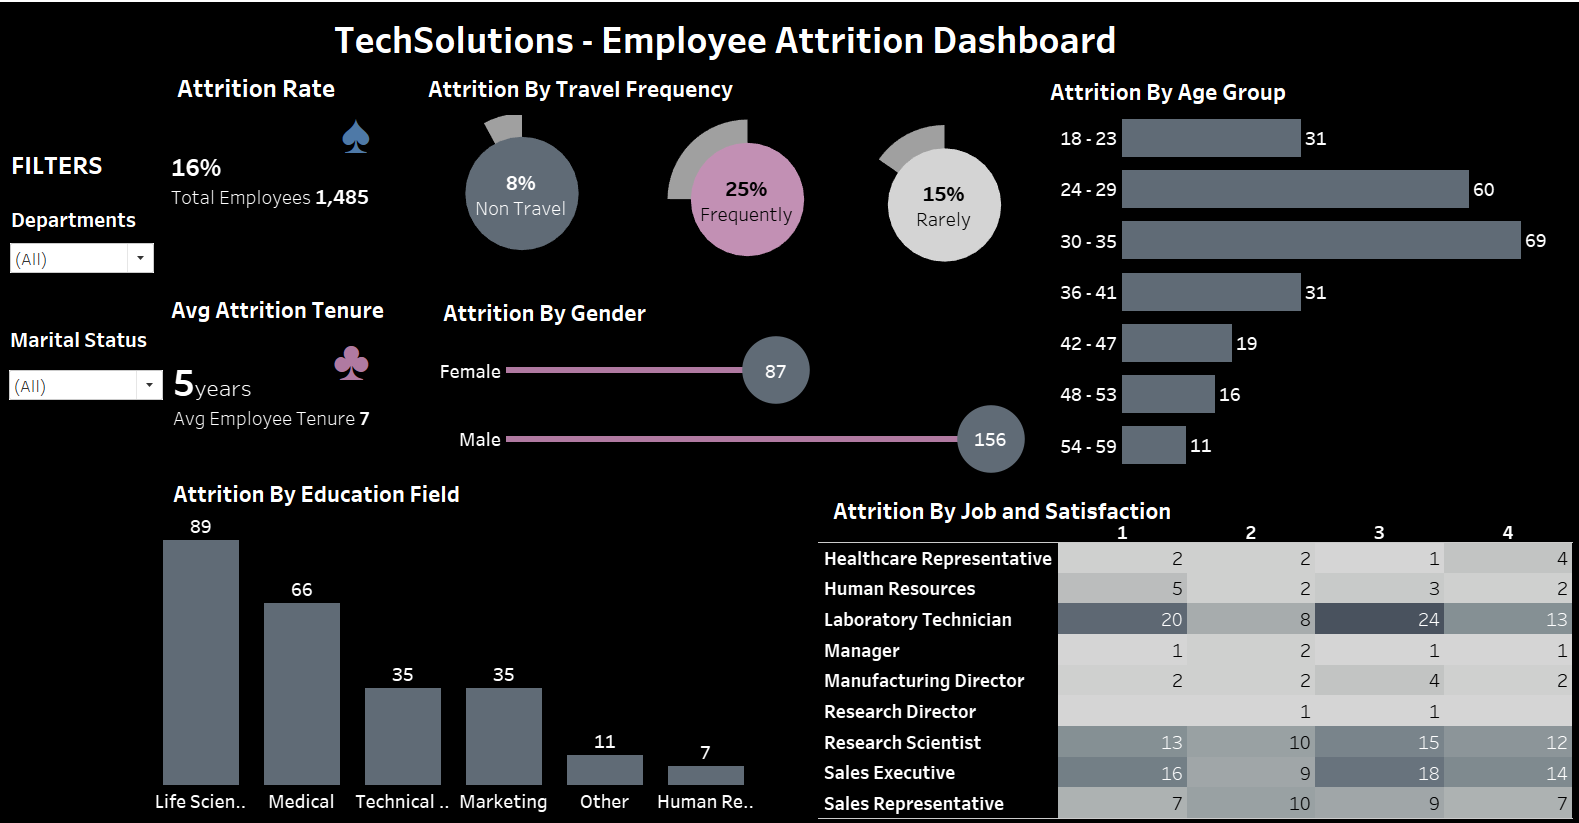

The dashboard page shown, as its layout file describes it:
{"tool":"tableau","page":{"name":"Attrition Dashboard","canvas":[1600,900],"ordinal":0},"visuals":[{"type":"title","box":[8,8,1584,58]},{"type":"text","box":[342,79,852,47]},{"type":"text","box":[185,136,179,30]},{"type":"text","box":[436,137,324,30]},{"type":"text","box":[1058,140,253,30]},{"type":"text","box":[349,159,47,71]},{"type":"worksheet","title":"Attrition by Travel Frequently","mark":"Pie","rows":["Calculation_258394075902230532","Calculation_258394075902283782"],"box":[672,170,175,187]},{"type":"worksheet","title":"Attrition by Age Group","mark":"Automatic","rows":["Age (bin)"],"cols":["Calculation_258394075888996352"],"box":[1054,176,531,359]},{"type":"worksheet","title":"Attrition by Non-Travel","mark":"Pie","rows":["Calculation_258394075902230532","Calculation_258394075902283782"],"box":[431,179,206,157]},{"type":"worksheet","title":"Attrition by Travel Rarely","mark":"Pie","rows":["Calculation_258394075902230532","Calculation_258394075902283782"],"box":[876,183,161,172]},{"type":"text","box":[19,213,128,30]},{"type":"worksheet","title":"Attrition rate","mark":"Automatic","box":[179,214,238,84]},{"type":"text","box":[19,268,133,30]},{"type":"filter","title":"Attrition rate","param":"[federated.0qzyapc01fa3ay15d49yk1dq9jj1].[none:Department:nk]","box":[19,304,150,48]},{"type":"text","box":[179,358,230,30]},{"type":"text","box":[451,361,218,30]},{"type":"text","box":[341,386,47,71]},{"type":"text","box":[18,388,155,30]},{"type":"worksheet","title":"Attrition by Gender","mark":"Automatic","rows":["Gender"],"cols":["Calculation_258394075888996352","Calculation_258394075888996352"],"box":[438,400,624,137]},{"type":"worksheet","title":"Avg Attrition Tenure","mark":"Automatic","box":[181,421,243,95]},{"type":"filter","title":"Attrition rate","param":"[federated.0qzyapc01fa3ay15d49yk1dq9jj1].[none:MaritalStatus:nk]","box":[18,431,160,53]},{"type":"text","box":[181,542,305,30]},{"type":"text","box":[841,559,427,30]},{"type":"worksheet","title":"Attrition by Education Field","mark":"Automatic","rows":["Calculation_258394075888996352"],"cols":["EducationField"],"box":[162,565,606,324]},{"type":"worksheet","title":"Attrition by Job Role and Satisfaction","mark":"Square","rows":["JobRole"],"cols":["JobSatisfaction"],"box":[830,586,755,297]}]}

Visuals, with their boxes on the page's 1600x900 design canvas (x1, y1, x2, y2). These are canvas units, not pixel positions in the 1579x823 screenshot, which may show the page scaled, cropped or inside an application window:
title: detection(8, 8, 1592, 66)
text: detection(342, 79, 1194, 126)
text: detection(185, 136, 364, 166)
text: detection(436, 137, 760, 167)
text: detection(1058, 140, 1311, 170)
text: detection(349, 159, 396, 230)
"Attrition by Travel Frequently" worksheet (Pie marks): detection(672, 170, 847, 357)
"Attrition by Age Group" worksheet: detection(1054, 176, 1585, 535)
"Attrition by Non-Travel" worksheet (Pie marks): detection(431, 179, 637, 336)
"Attrition by Travel Rarely" worksheet (Pie marks): detection(876, 183, 1037, 355)
text: detection(19, 213, 147, 243)
"Attrition rate" worksheet: detection(179, 214, 417, 298)
text: detection(19, 268, 152, 298)
"Attrition rate" filter: detection(19, 304, 169, 352)
text: detection(179, 358, 409, 388)
text: detection(451, 361, 669, 391)
text: detection(341, 386, 388, 457)
text: detection(18, 388, 173, 418)
"Attrition by Gender" worksheet: detection(438, 400, 1062, 537)
"Avg Attrition Tenure" worksheet: detection(181, 421, 424, 516)
"Attrition rate" filter: detection(18, 431, 178, 484)
text: detection(181, 542, 486, 572)
text: detection(841, 559, 1268, 589)
"Attrition by Education Field" worksheet: detection(162, 565, 768, 889)
"Attrition by Job Role and Satisfaction" worksheet (Square marks): detection(830, 586, 1585, 883)
